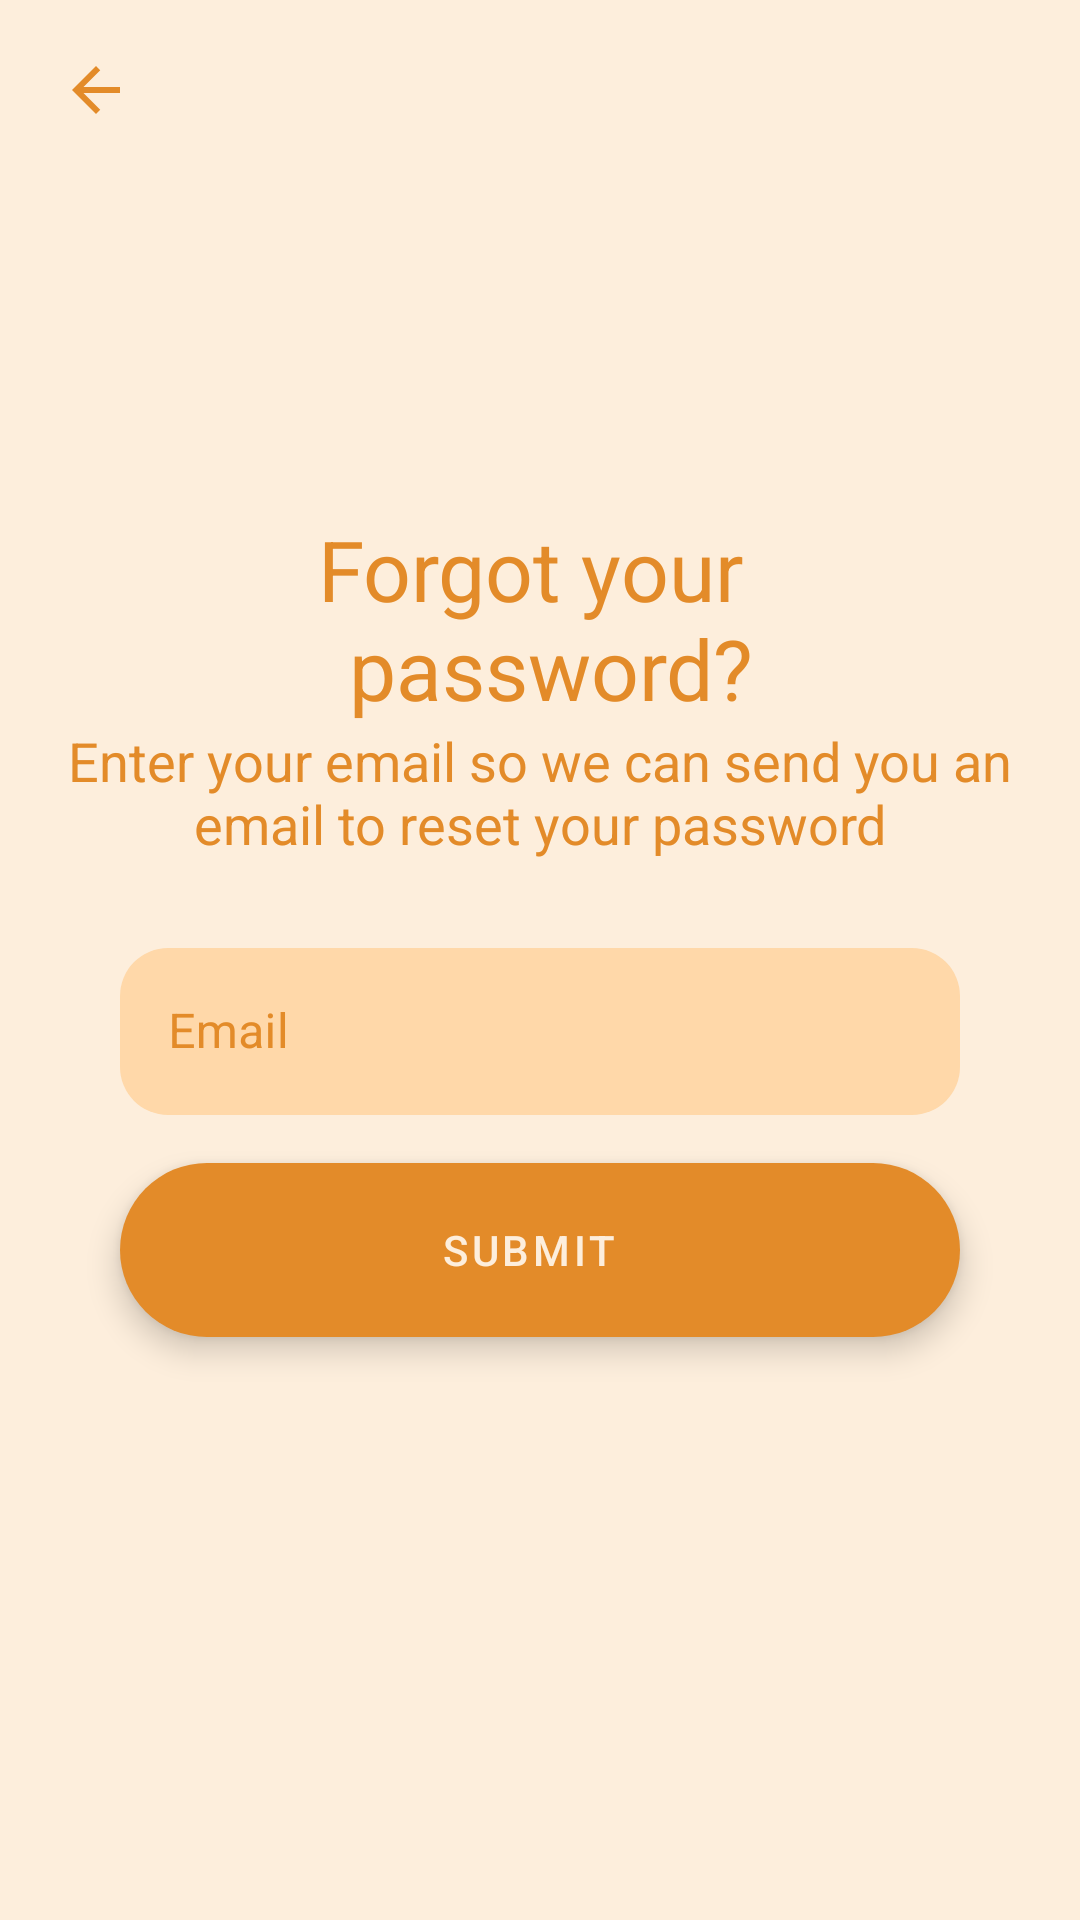

Where to tap for icons on this 1080*1920 app screen, as (x=x, y=y):
arrow back: (x=96, y=90)
